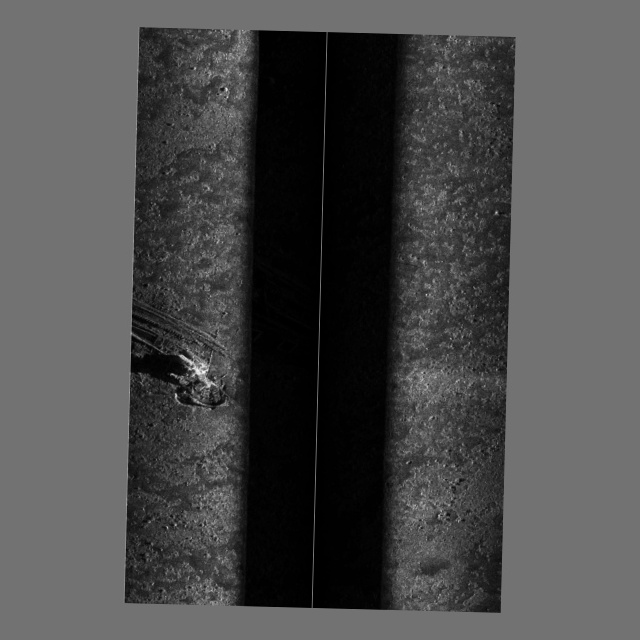Shipwreck: (129, 297, 238, 408)
